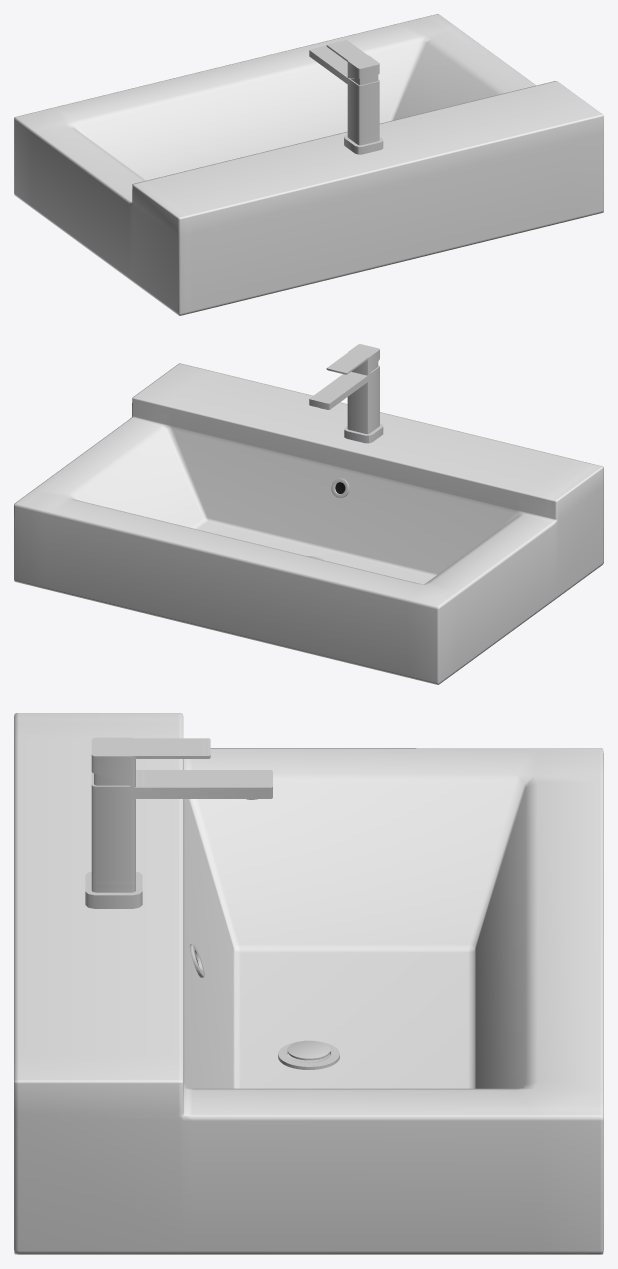
The model's file is WashBasin01.glb.
3 views of the same model, one above another, from view 1: azimuth 30°, elevation 25°; view 2: azimuth 150°, elevation 25°; view 3: azimuth 270°, elevation 25° (orthographic). The views are drawn at different scales.
Parts seen in each view (by area): view 1: WashBasin01_model, Faucet01, FaucetLever01; view 2: WashBasin01_model, Faucet01, FaucetLever01; view 3: WashBasin01_model, Faucet01, FaucetLever01.
Boxes of the visible parts, <box> form: WashBasin01_model: <box>14,14,603,315</box>; Faucet01: <box>309,45,383,154</box>; FaucetLever01: <box>326,40,379,78</box>; WashBasin01_model: <box>14,363,603,684</box>; Faucet01: <box>309,362,383,443</box>; FaucetLever01: <box>326,344,379,374</box>; WashBasin01_model: <box>14,713,603,1254</box>; Faucet01: <box>85,770,272,908</box>; FaucetLever01: <box>91,737,210,786</box>.
Size of the model in its own units: 1.63 by 0.6673 by 1.1.
1 material, 1 textured.
